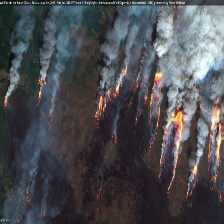fire: (162, 112, 183, 192), (208, 107, 224, 204), (150, 69, 160, 128), (187, 162, 199, 202), (105, 85, 122, 106), (37, 77, 47, 109), (95, 93, 104, 123), (93, 182, 106, 201), (130, 75, 139, 101), (46, 107, 56, 125), (24, 187, 32, 203), (1, 94, 9, 109)
smoke: (155, 7, 224, 121), (93, 5, 154, 79), (9, 133, 71, 196), (41, 6, 75, 82), (8, 7, 30, 89)
